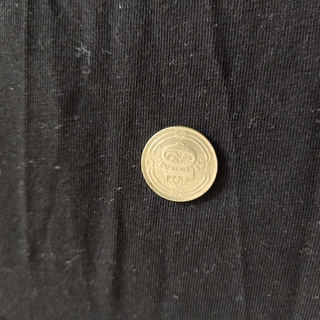10KURUS: (139, 124, 219, 204)
